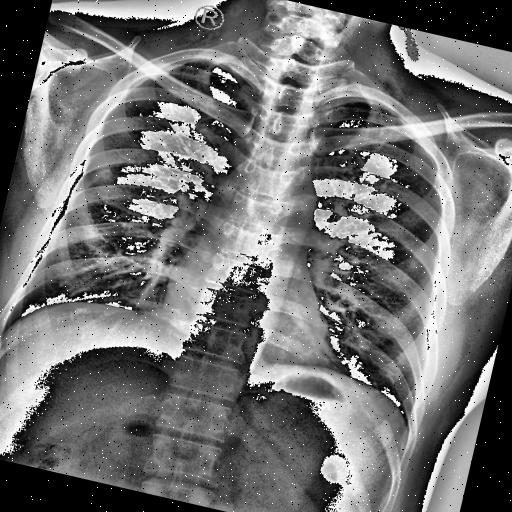11- Pleural thickening: (130, 40, 206, 106), (157, 49, 249, 90), (318, 87, 412, 127), (319, 90, 407, 128), (168, 48, 248, 84), (316, 84, 385, 124)
